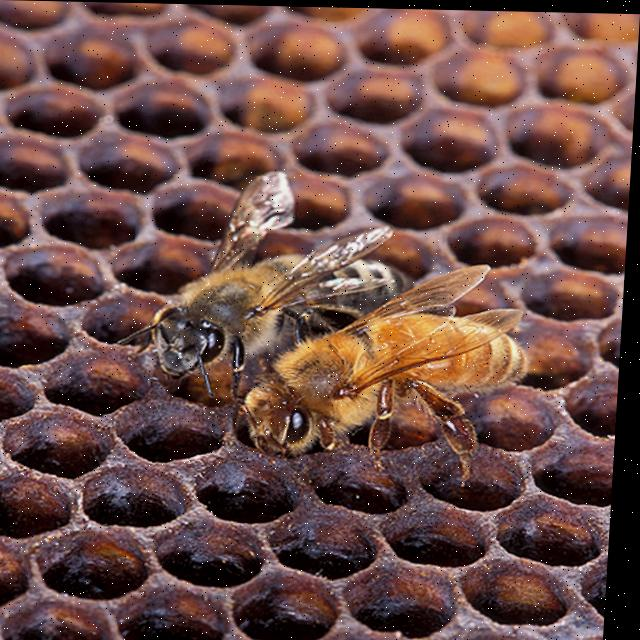Allodapula: (132, 173, 452, 378)
